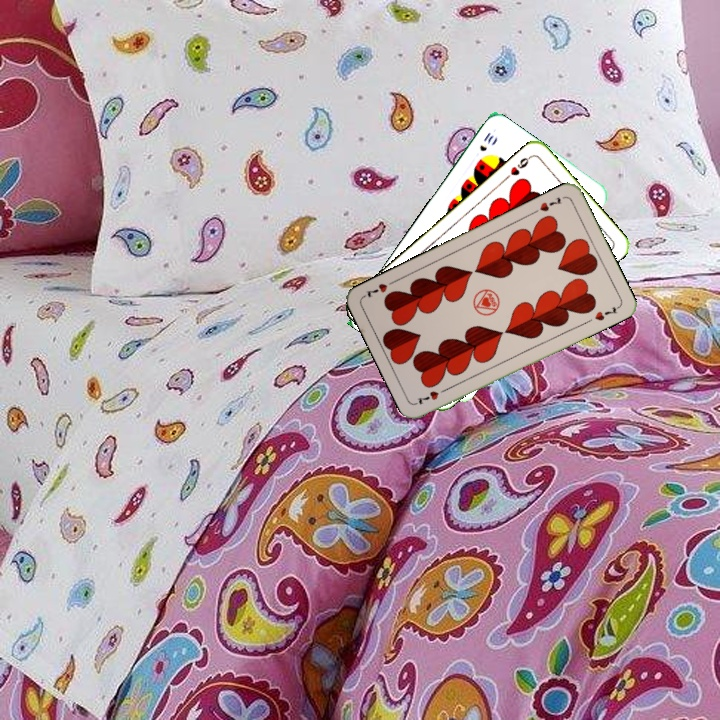H7: (413, 384, 451, 407), (529, 193, 563, 217)
H9: (501, 152, 534, 182)
S10: (475, 128, 496, 154)
